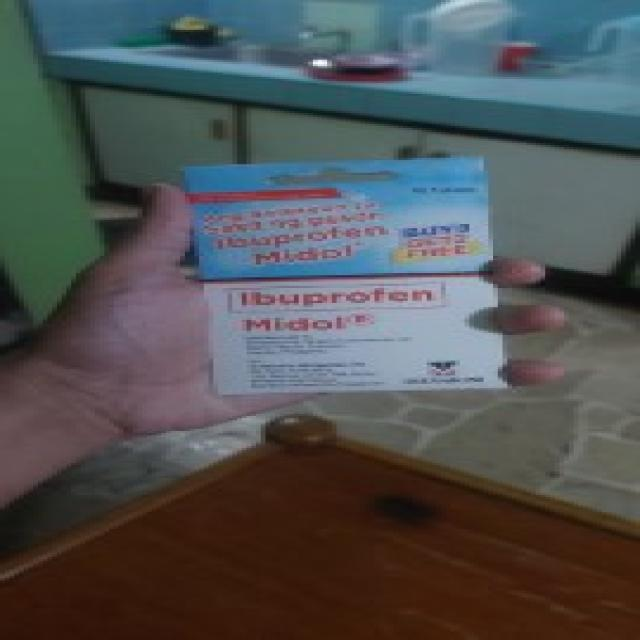Cacat: (179, 159, 505, 394)
